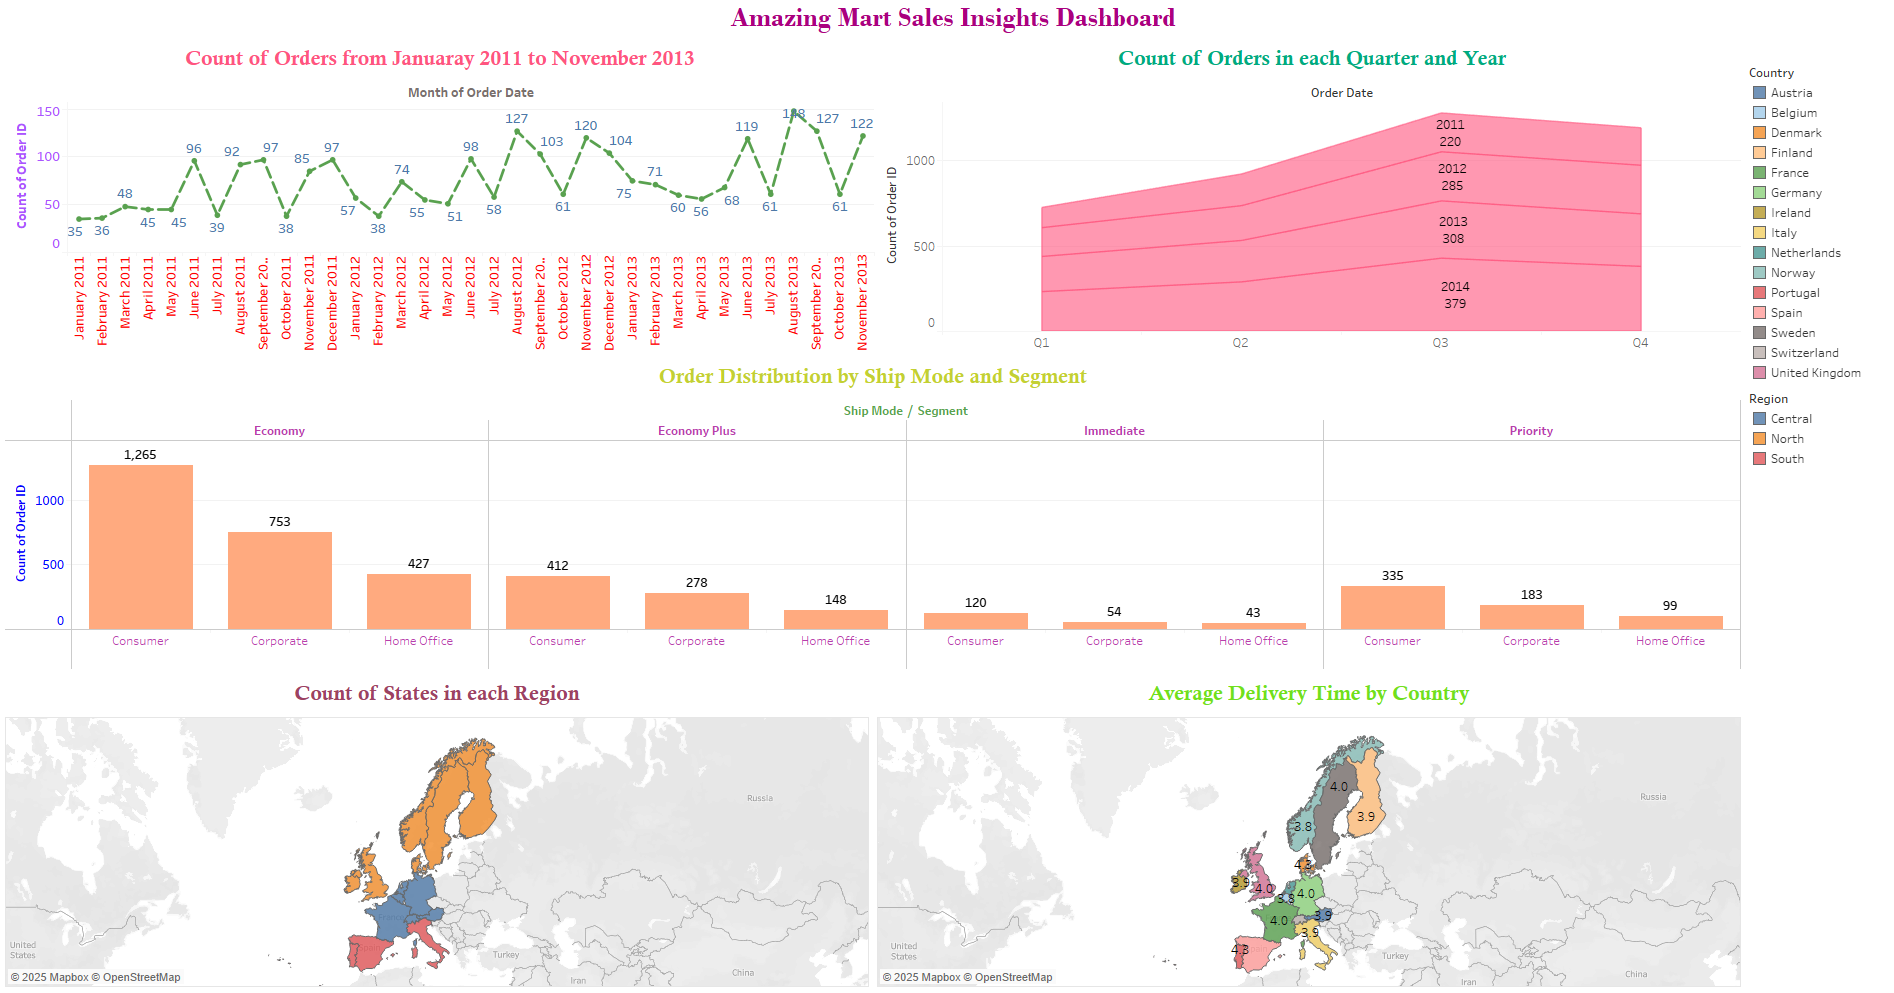

What the dashboard file says about the page in this screenshot:
{"tool":"tableau","page":{"name":"Dashboard 1","canvas":[1000,1000],"units":"permille","ordinal":0},"visuals":[{"type":"title","box":[4.7,9.4,990.6,48]},{"type":"worksheet","title":"Sheet 1","mark":"Line","rows":["Order ID"],"cols":["Order Date"],"box":[4.7,57.4,451.6,311]},{"type":"worksheet","title":"Sheet 2","mark":"Area","rows":["Order ID"],"cols":["Order Date"],"box":[456.3,57.4,445.4,311]},{"type":"legend","title":"Sheet 2","param":"[federated.1osos4j1fj54mn11jogwj1r8g14z].[qr:Order Date:ok]","box":[901.7,57.4,93.6,25.8]},{"type":"legend","title":"Sheet 4","param":"[federated.1osos4j1fj54mn11jogwj1r8g14z].[none:Country:nk]","box":[901.7,83.1,93.6,381.7]},{"type":"worksheet","title":"Sheet 5","mark":"Bar","rows":["Order ID"],"cols":["Ship Mode","Segment"],"box":[4.7,368.4,897,311.1]},{"type":"legend","title":"Sheet 3","param":"[federated.1osos4j1fj54mn11jogwj1r8g14z].[none:Region:nk]","box":[901.7,464.9,93.6,100.7]},{"type":"worksheet","title":"Sheet 3","mark":"Multipolygon","box":[4.7,679.5,448.4,311.2]},{"type":"worksheet","title":"Sheet 4","mark":"Multipolygon","box":[453,679.5,448.7,311.2]}]}

Visuals, with their boxes on the dashboard's canvas, which has no fixed pixel size, in thousandths of its width and height (x1, y1, x2, y2). These are canvas units, not pixel positions in the 1894x993 screenshot, which may show the page scaled, cropped or inside an application window:
title: [left=5, top=9, right=995, bottom=57]
"Sheet 1" worksheet (Line marks): [left=5, top=57, right=456, bottom=368]
"Sheet 2" worksheet (Area marks): [left=456, top=57, right=902, bottom=368]
"Sheet 2" legend: [left=902, top=57, right=995, bottom=83]
"Sheet 4" legend: [left=902, top=83, right=995, bottom=465]
"Sheet 5" worksheet (Bar marks): [left=5, top=368, right=902, bottom=680]
"Sheet 3" legend: [left=902, top=465, right=995, bottom=566]
"Sheet 3" worksheet (Multipolygon marks): [left=5, top=680, right=453, bottom=991]
"Sheet 4" worksheet (Multipolygon marks): [left=453, top=680, right=902, bottom=991]
